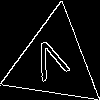V: (29, 36, 74, 91)
